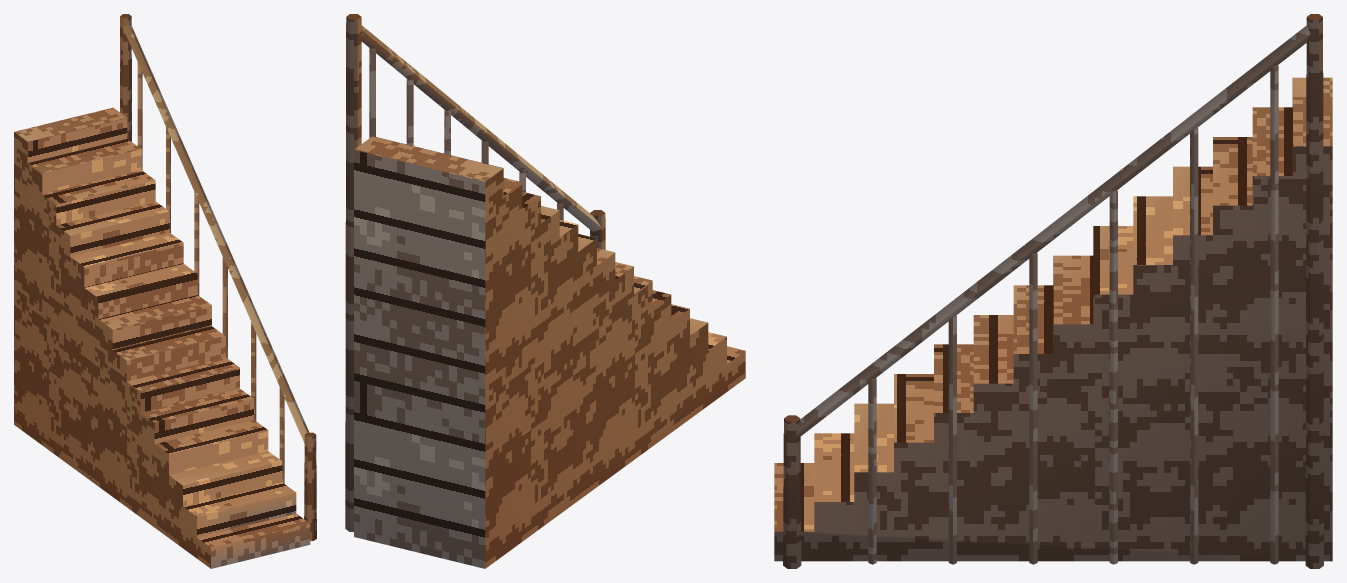
Rendered from wtown.stairs.glb.
3 renders of one model, left to right at view 1: azimuth 30°, elevation 25°; view 2: azimuth 150°, elevation 25°; view 3: azimuth 270°, elevation 25°, orthographic. The views are drawn at different scales.
Visible parts, largest first — view 1: kit_treads, kit_rail, kit_spindles, kit_rail_posts; view 2: kit_treads, kit_rail_posts, kit_rail, kit_spindles; view 3: kit_treads, kit_spindles, kit_rail_posts, kit_rail.
Boxes of the visible parts, x1,y1,x2,y2 form: kit_treads: (14, 107, 310, 568); kit_rail: (122, 24, 309, 445); kit_spindles: (137, 62, 284, 483); kit_rail_posts: (120, 14, 316, 540); kit_treads: (354, 136, 745, 568); kit_rail_posts: (345, 14, 605, 531); kit_rail: (360, 25, 602, 232); kit_spindles: (369, 48, 563, 220); kit_treads: (774, 77, 1332, 561); kit_spindles: (868, 65, 1278, 564); kit_rail_posts: (783, 14, 1323, 568); kit_rail: (793, 25, 1314, 436).
Size of the model in its own units: 1.22 by 4.1 by 3.78.
4 materials, 4 textured.
